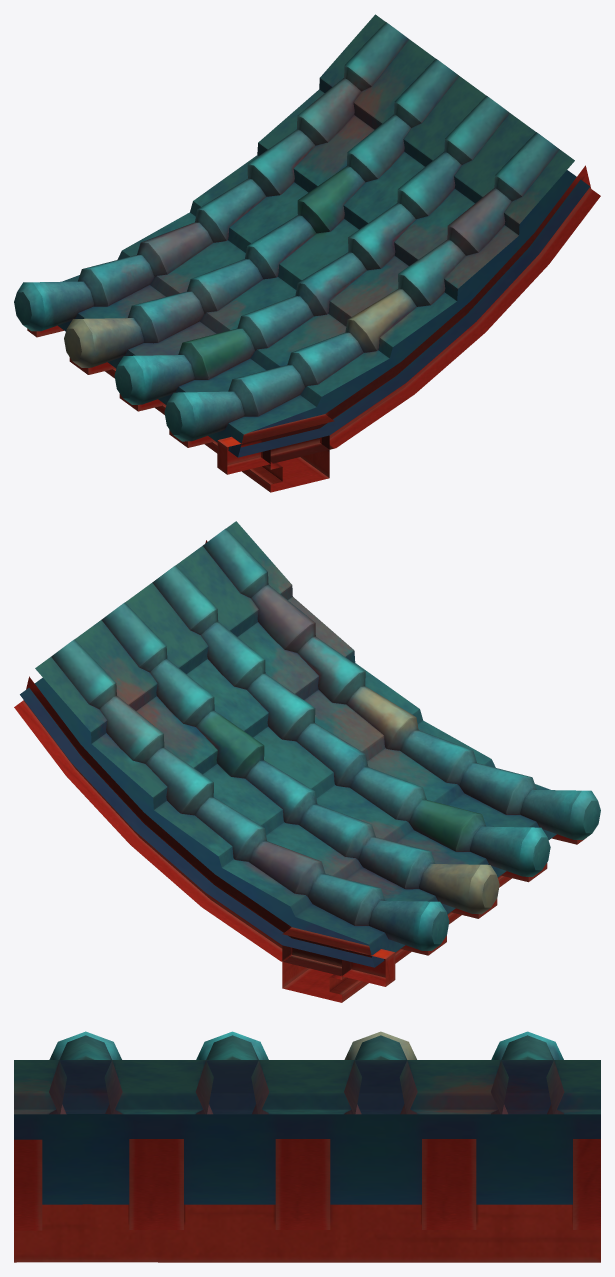
Rendered from SM_SmallRoof_1m.glb.
3 renders of one model, top to bottom at view 1: azimuth 30°, elevation 25°; view 2: azimuth 150°, elevation 25°; view 3: azimuth 270°, elevation 25°, orthographic. The views are drawn at different scales.
Visible parts, largest first — view 1: SM_SmallRoof_1m_LOD0; view 2: SM_SmallRoof_1m_LOD0; view 3: SM_SmallRoof_1m_LOD0.
Part boxes in pixels (box(x1,y1,x2,y2)): SM_SmallRoof_1m_LOD0: box(14, 14, 600, 492); SM_SmallRoof_1m_LOD0: box(14, 521, 600, 1002); SM_SmallRoof_1m_LOD0: box(14, 1031, 600, 1262).
Size of the model in its own units: 1.04 by 0.6602 by 0.889.
Materials: 1 (1 with a texture image).
